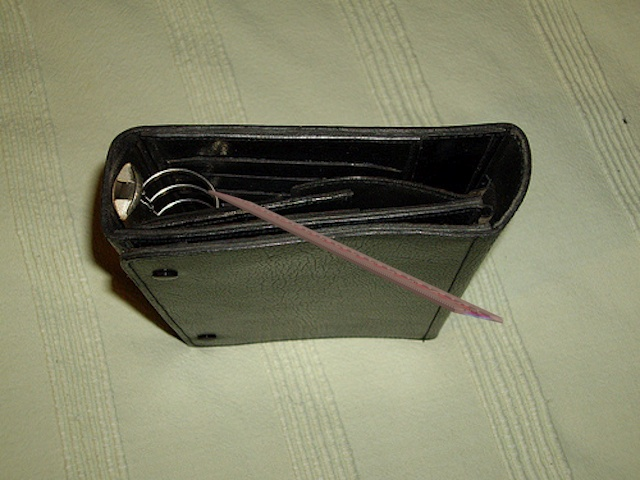ruler: (208, 177, 513, 336)
